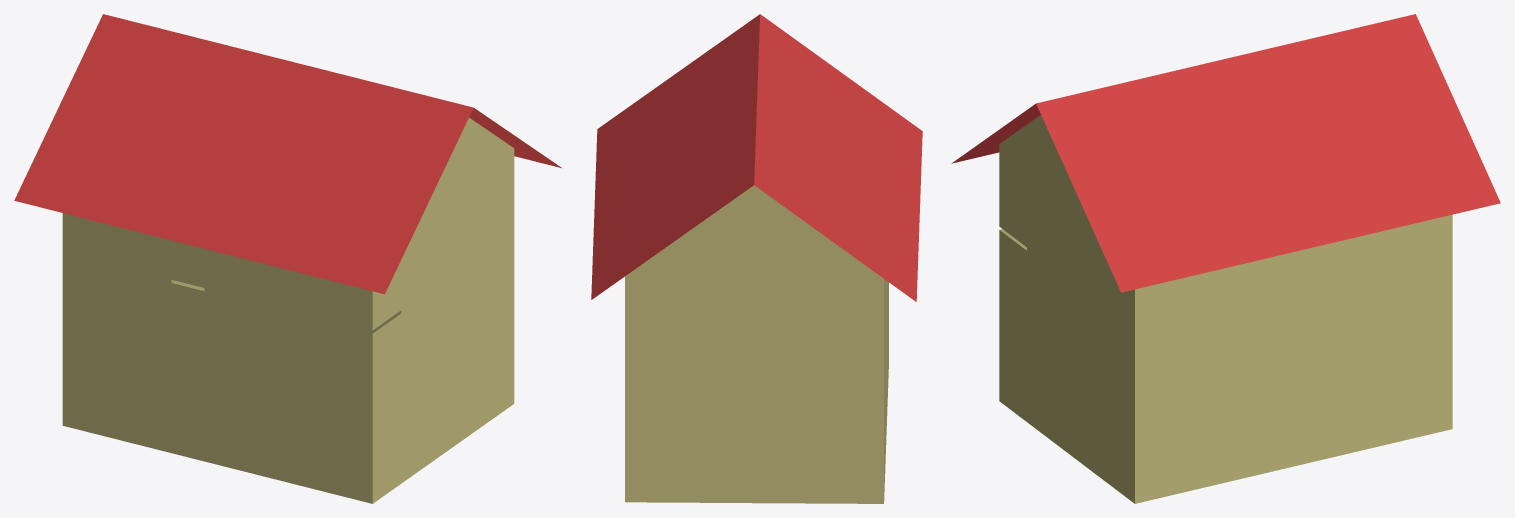
3 renders of one model, left to right at view 1: azimuth 30°, elevation 25°; view 2: azimuth 150°, elevation 25°; view 3: azimuth 270°, elevation 25°, orthographic. The views are drawn at different scales.
Size of the model in its own units: 14.54 by 15.47 by 11.06.
